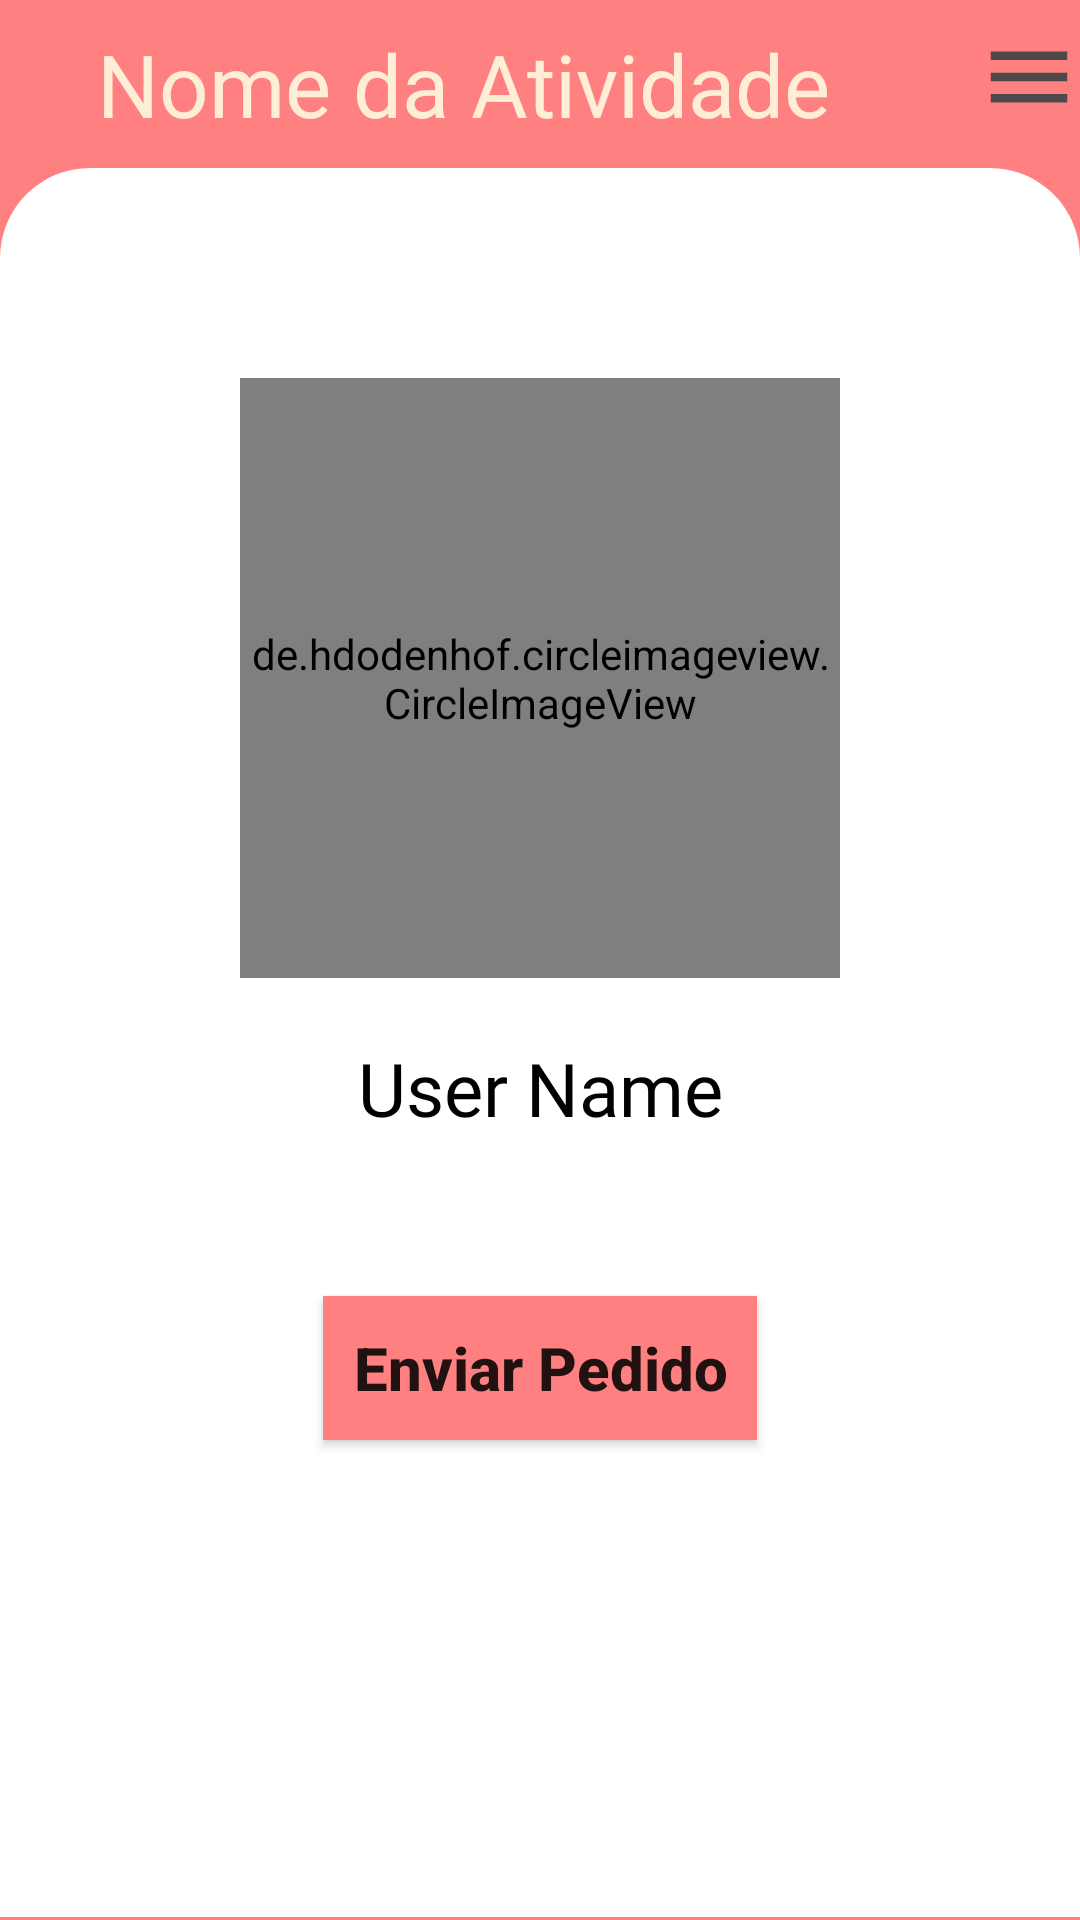

Icon click points for this 1080px x 1920px phone screenshot, format [x,y]:
menu: [1029,77]
